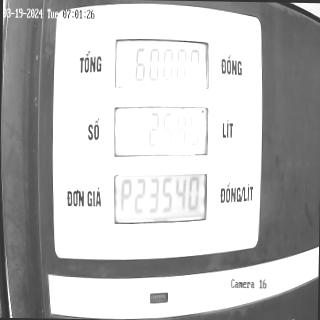screen: (110, 32, 211, 230)
